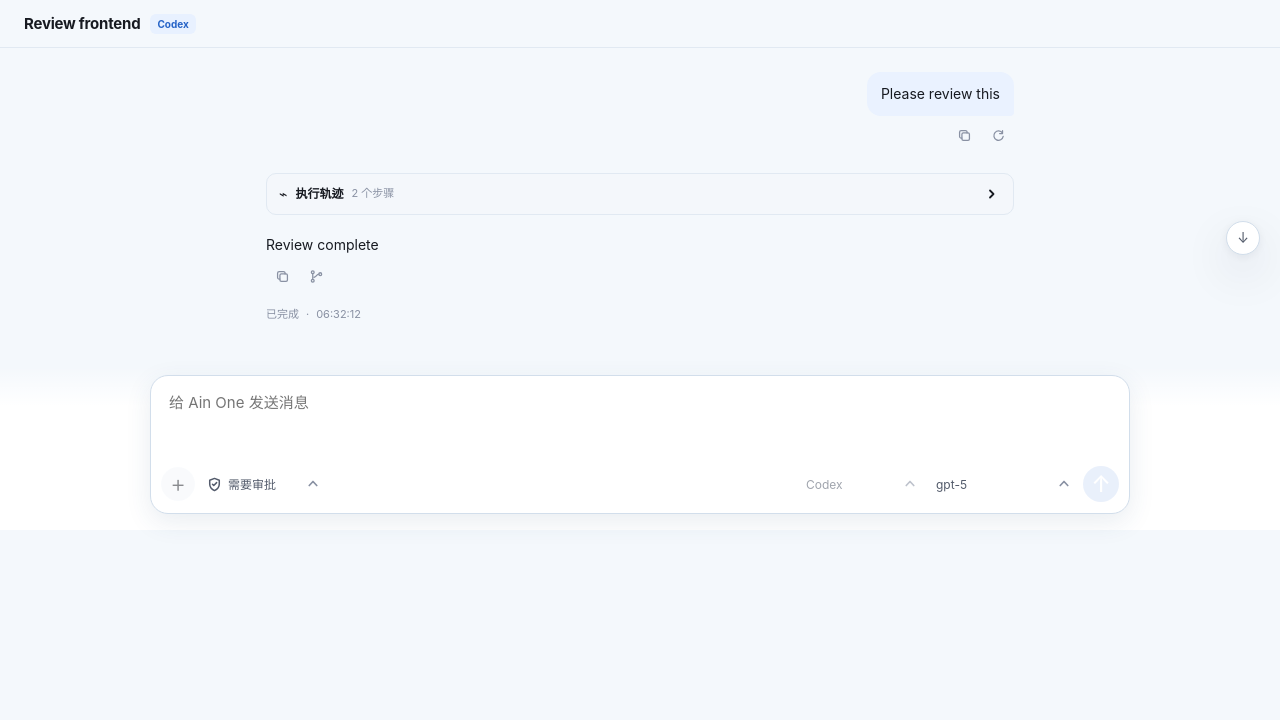
DSH conversation surface › closes composer menus on outside click and has no decorative diamond separator
Click the button with aria-label "Model". click: x=1004, y=484
box: [928, 469, 1080, 499]
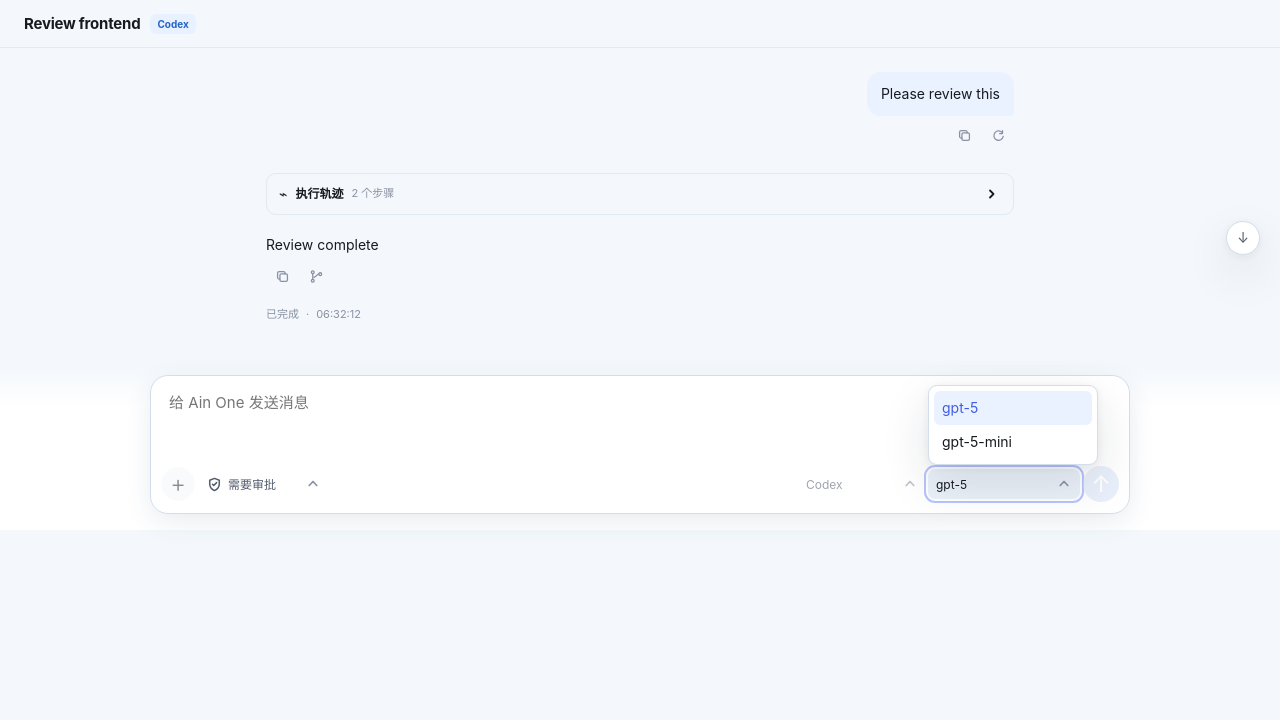
Expected: the menu is shown, [928, 385, 1098, 465]
Click the heading "Review frontend". click: x=82, y=24
box: [24, 13, 140, 34]
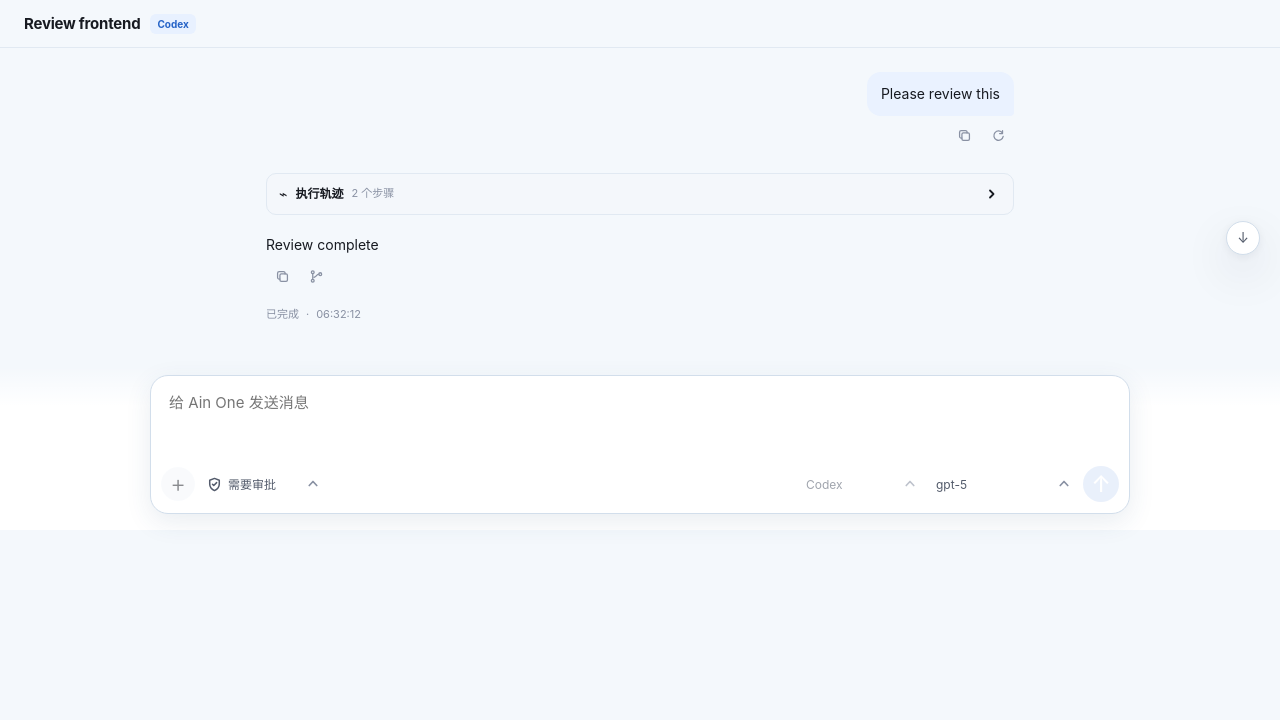
Expected: the menu is gone
